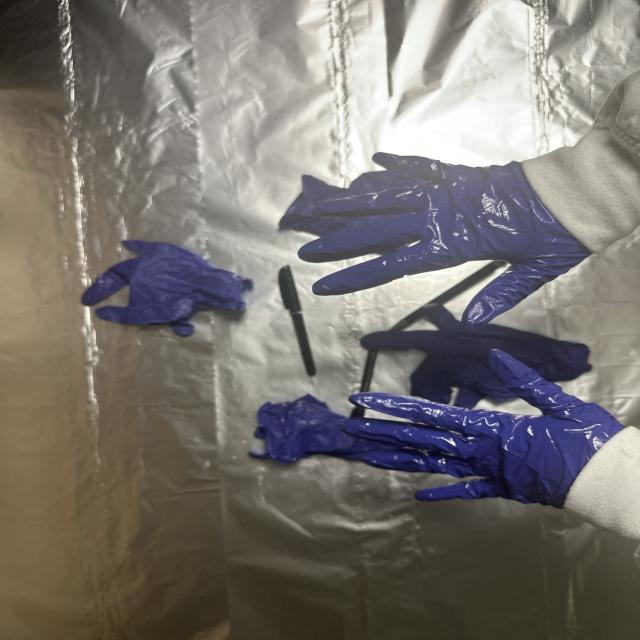gloves_contaminated: (298, 153, 590, 331), (342, 350, 624, 508)
